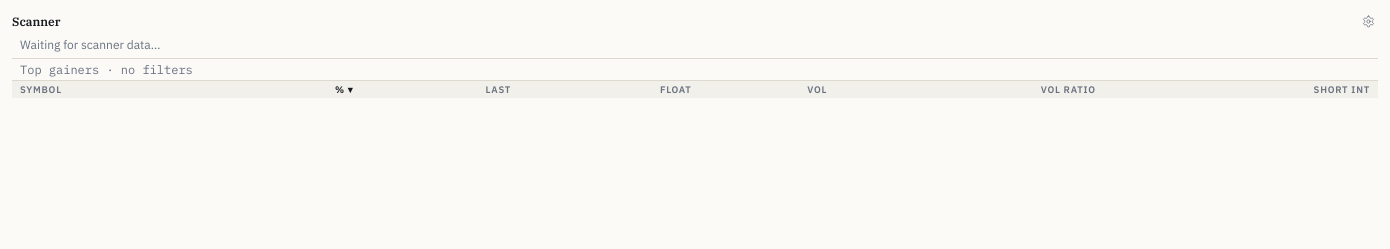
it: ScannerPanel › has no persistent input row on load; the ⚙ button reveals the filter inputs
Expected: the field labelled "min gain %" is not shown
Expected: the field labelled "vol ratio ≥" is not shown
Click the button named "filters" at (1368, 22), box x1=1359 y1=12 x2=1378 y2=31
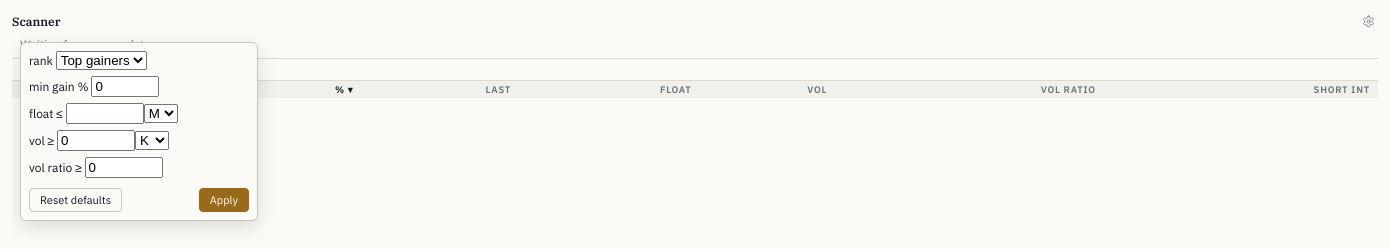
Now the number field labelled "min gain %" is shown, box x1=92 y1=76 x2=160 y2=97
Now the number field named "float cap" is shown, box x1=66 y1=103 x2=144 y2=124
Now the number field named "min volume" is shown, box x1=57 y1=130 x2=135 y2=151
